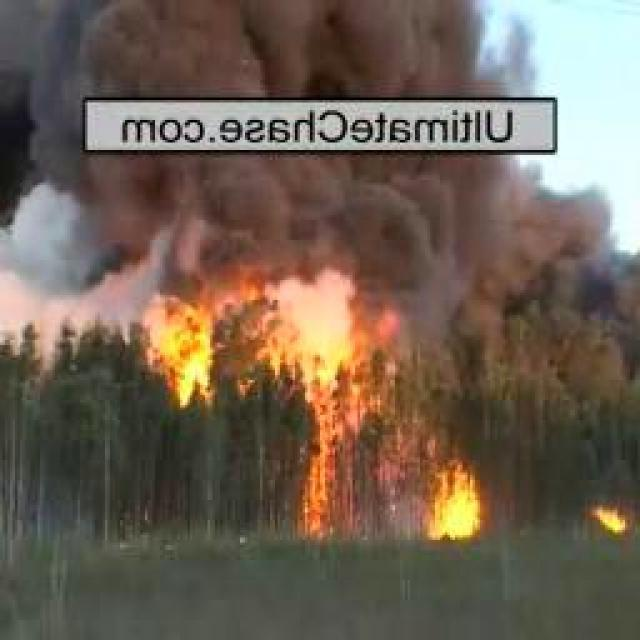Fire: (137, 289, 226, 408), (292, 358, 342, 539), (419, 456, 484, 541), (583, 503, 629, 538)
